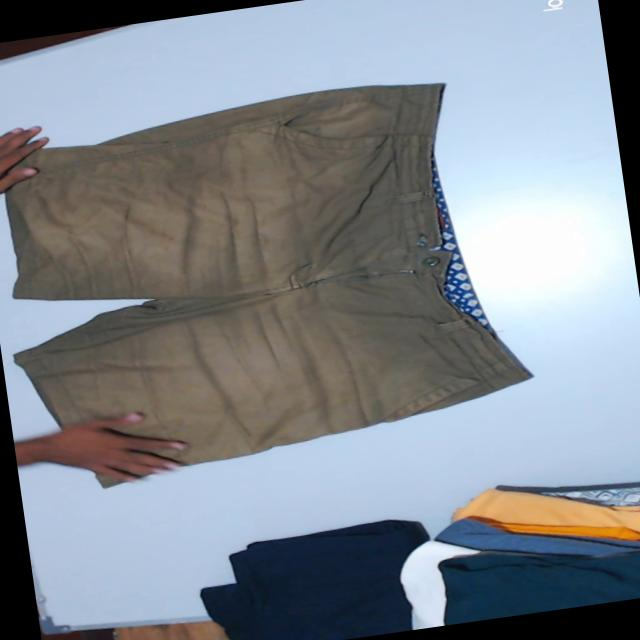new-garment: (6, 83, 531, 464)
